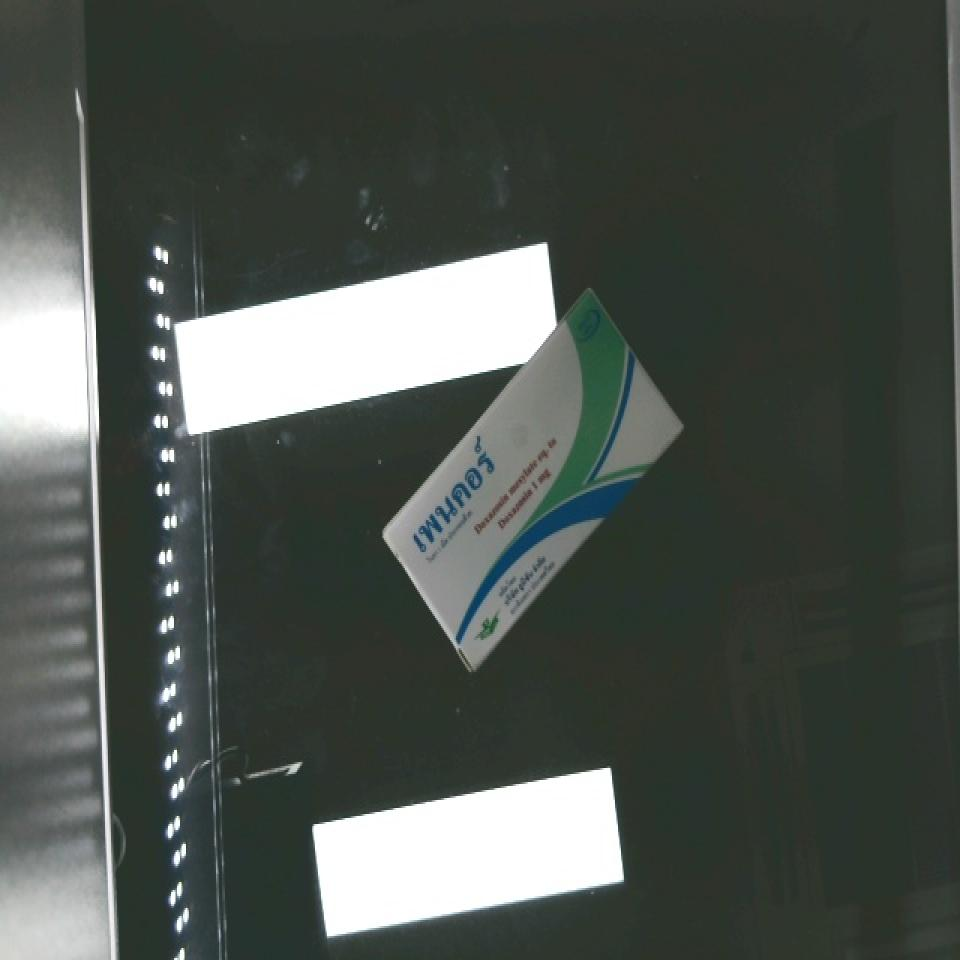medicine_box: (353, 285, 711, 670)
medicine_label_obb: (374, 412, 532, 574)
